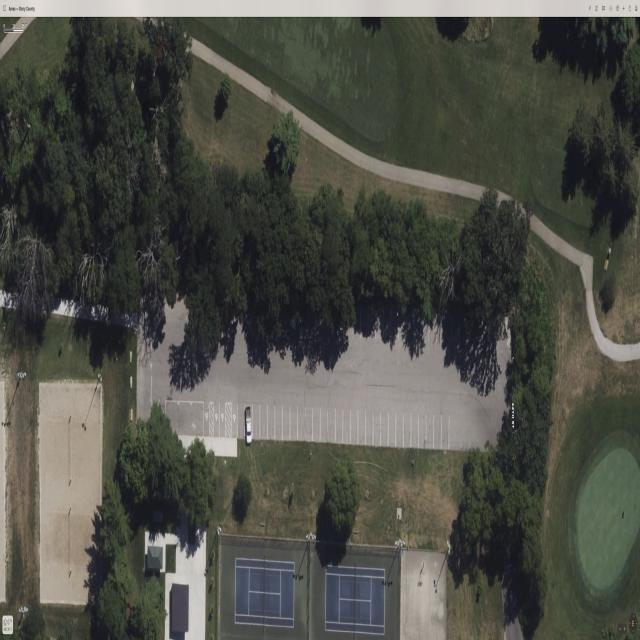Empty: (418, 413, 427, 449), (383, 303, 391, 341), (267, 404, 275, 441), (275, 404, 283, 441), (376, 303, 384, 340), (391, 304, 399, 341), (252, 404, 260, 440), (282, 405, 290, 441), (426, 414, 434, 450), (403, 412, 411, 448), (237, 403, 245, 438), (290, 406, 298, 441), (434, 415, 442, 450), (411, 413, 419, 448), (396, 413, 404, 448), (441, 415, 449, 449), (231, 403, 238, 438), (260, 405, 267, 440), (213, 403, 220, 437), (204, 403, 210, 436), (219, 403, 225, 436)
Parked: (360, 301, 369, 338), (245, 404, 252, 446)
